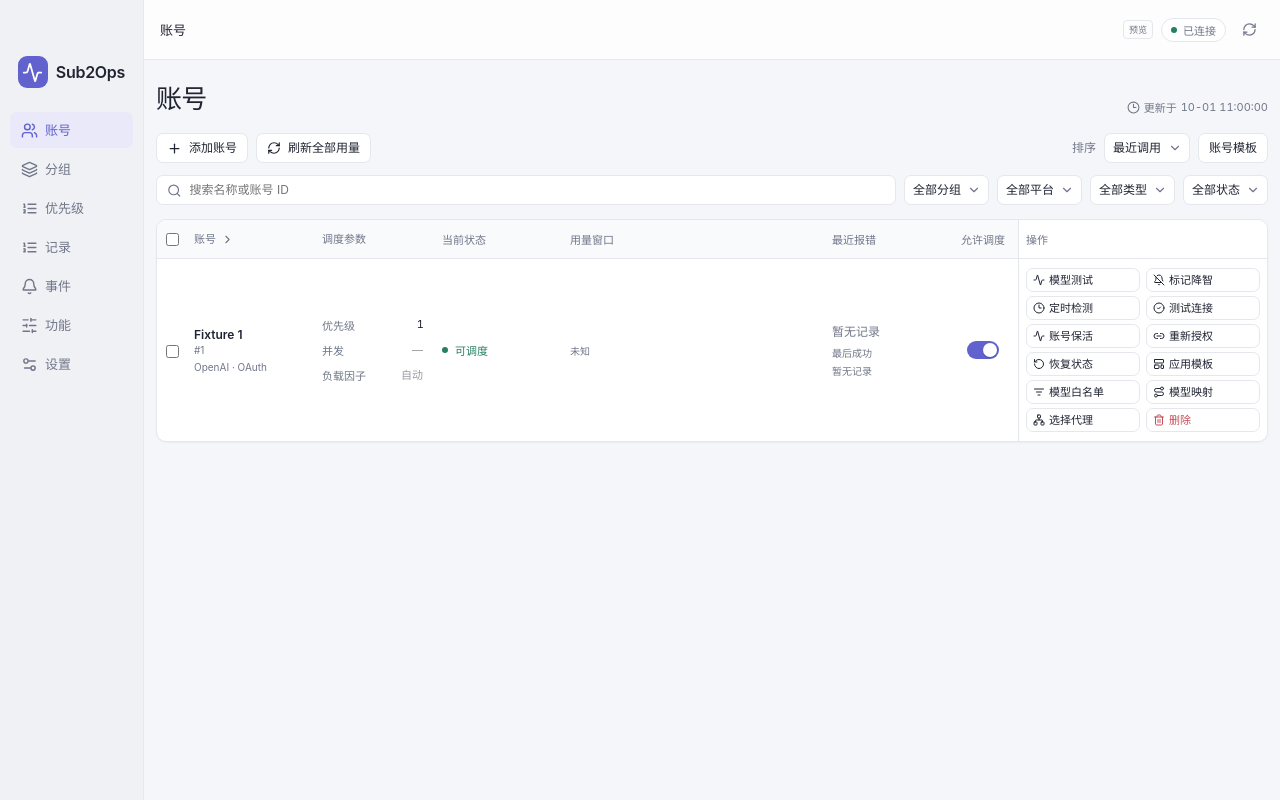
Test case: shared account actions › opens 模型测试 from the group card for that account
What coordinates should you click on to do the following:
click the button "分组"
I would click on:
 (72, 169)
Its box is left=10, top=151, right=133, bottom=187.
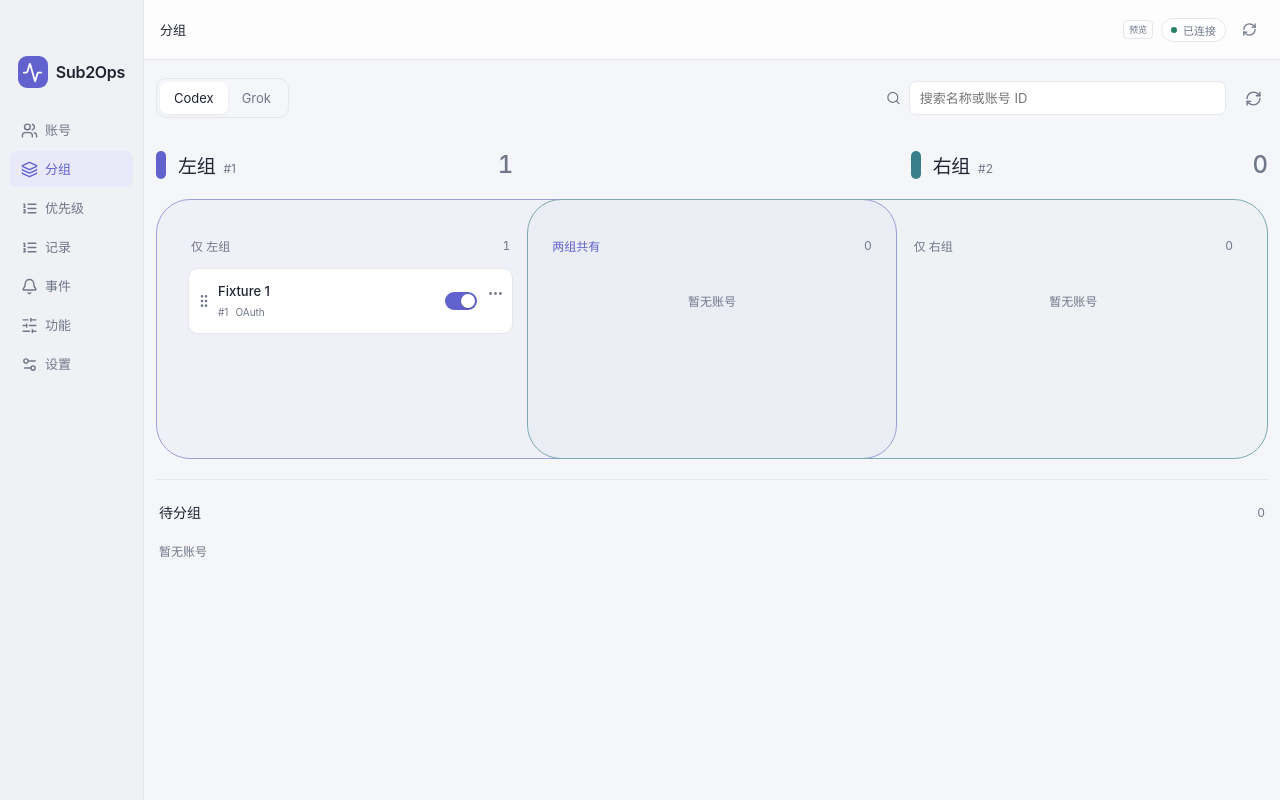
What coordinates should you click on to do the following:
click the button with class "account-more-trigger"
I would click on:
 (495, 293)
Its box is left=482, top=279, right=508, bottom=307.
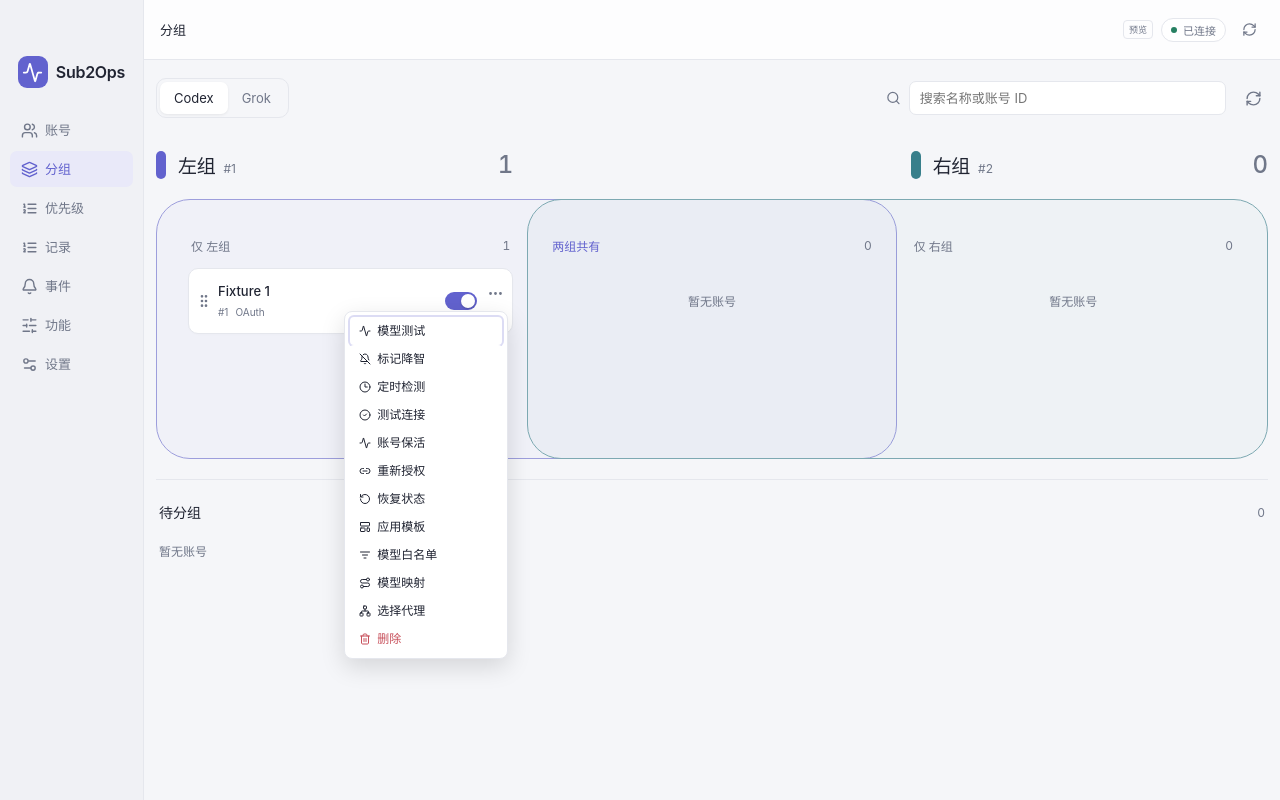
What coordinates should you click on to do the following:
click the button "模型测试"
I would click on:
 (426, 331)
Its box is left=350, top=317, right=502, bottom=345.
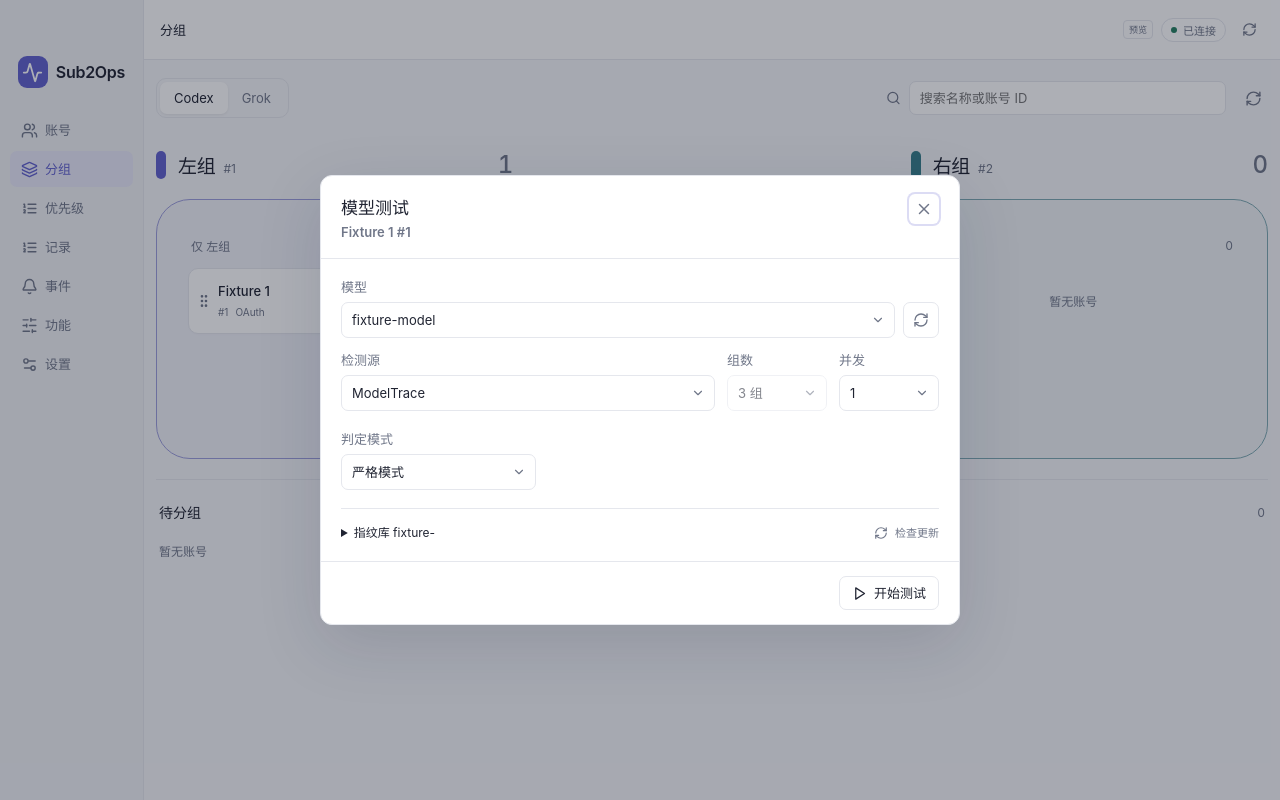
Now the element with class "account-action-popup" is gone
